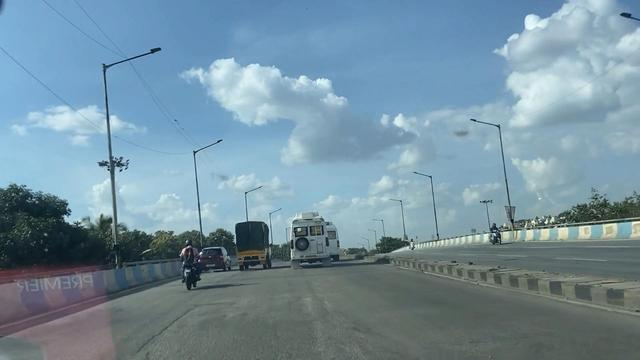HMV: (287, 213, 336, 265), (233, 219, 273, 276)
LMV: (178, 236, 205, 289), (197, 244, 229, 277)
RoadDamages: (146, 289, 384, 360)
